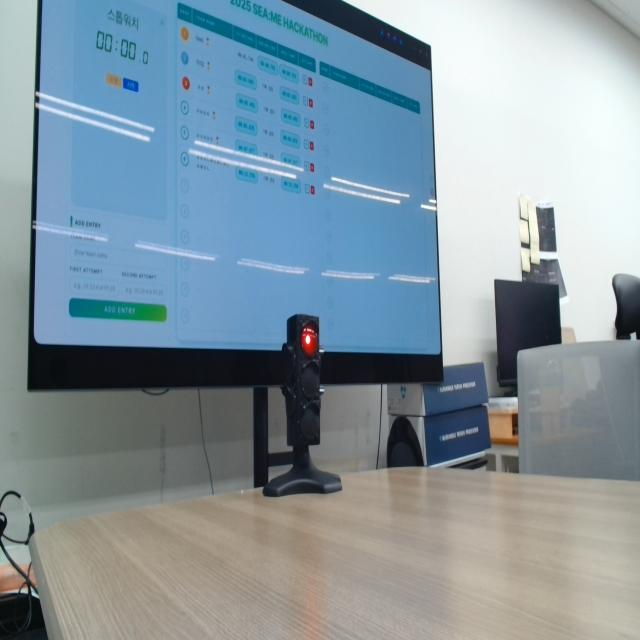red_light: (301, 324, 318, 357)
